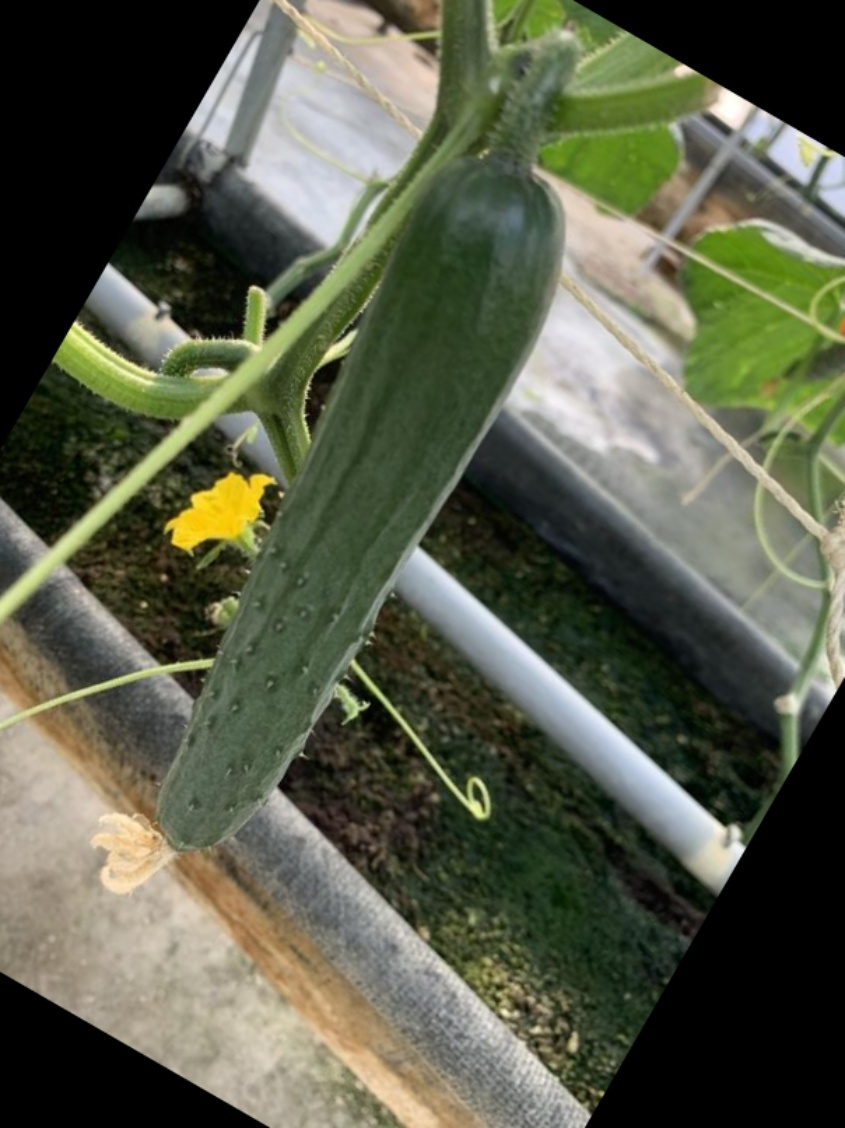mature: (150, 157, 560, 858)
